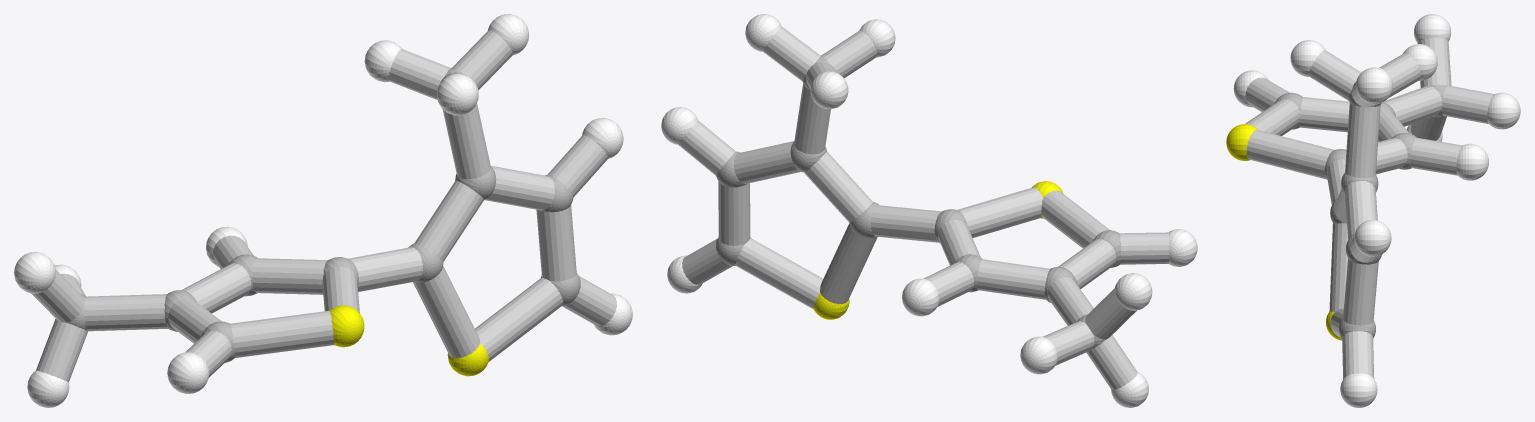
Rendered from Methylthiophene_Phi_10_Theta_270_Methylthiophene.glb.
3 views of the same model, side by side, from view 1: azimuth 30°, elevation 25°; view 2: azimuth 150°, elevation 25°; view 3: azimuth 270°, elevation 25° (orthographic). The views are drawn at different scales.
Parts seen in each view (by area): view 1: grp7965, grp3621, grp1, grp7241; view 2: grp7965, grp3621, grp1, grp7241; view 3: grp7965, grp3621, grp1, grp7241.
Boxes of the visible parts, x1,y1,x2,y2 form: grp7965: (31, 30, 616, 382); grp3621: (14, 14, 632, 407); grp1: (67, 68, 580, 362); grp7241: (330, 305, 488, 376); grp7965: (678, 26, 1169, 389); grp3621: (661, 14, 1197, 407); grp1: (716, 56, 1120, 348); grp7241: (813, 181, 1063, 319); grp7965: (1245, 38, 1493, 379); grp3621: (1233, 14, 1520, 407); grp1: (1274, 84, 1447, 338); grp7241: (1226, 124, 1342, 340).
Bounding box in the file's own units: 9.42 × 5.26 × 4.74.
